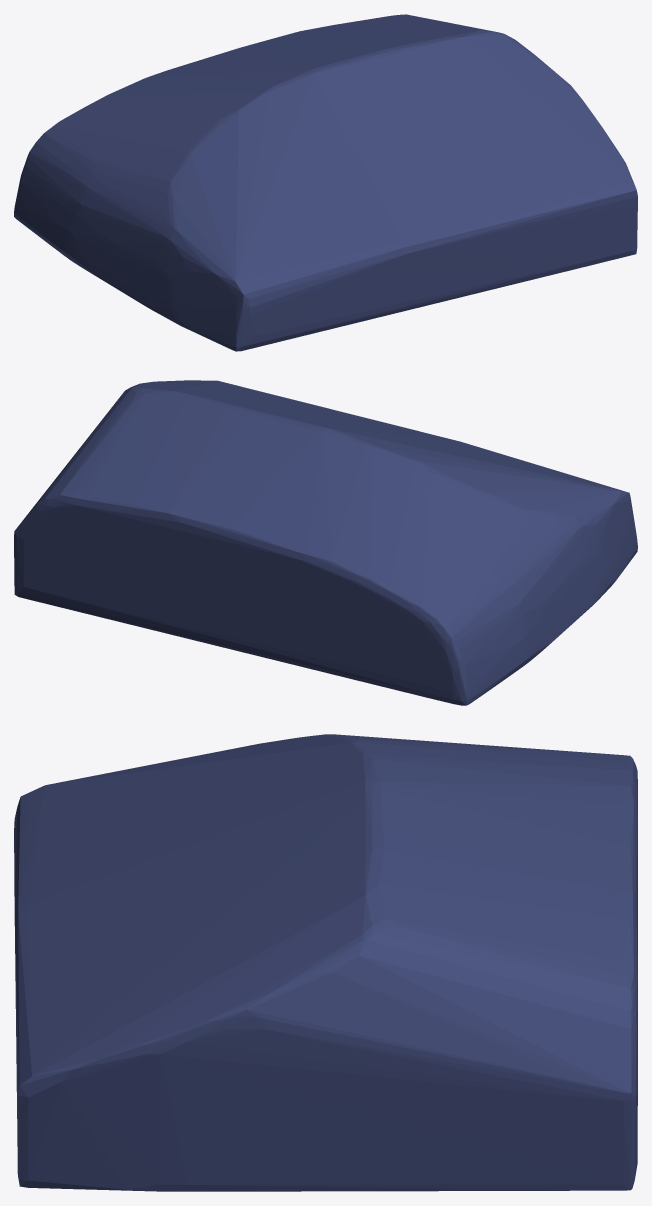
3 renders of one model, top to bottom at view 1: azimuth 30°, elevation 25°; view 2: azimuth 150°, elevation 25°; view 3: azimuth 270°, elevation 25°, orthographic. The views are drawn at different scales.
Bounding box in the file's own units: 0.1862 × 0.0631 × 0.1443.
